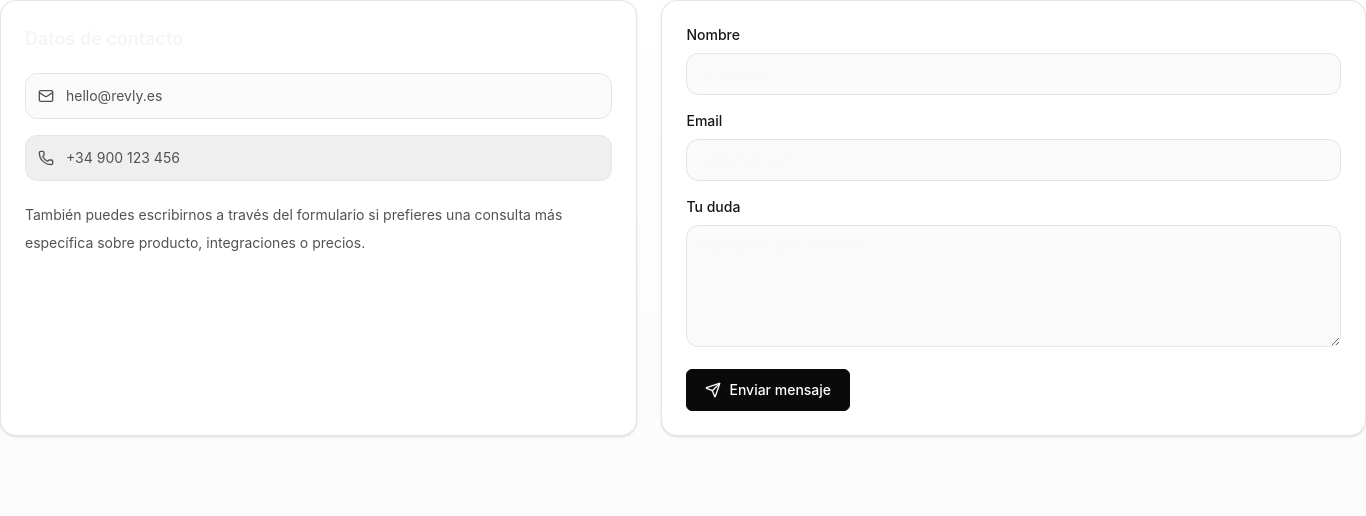
Scenario: ContactForm › envía el formulario y muestra el mensaje de confirmación
In the field labelled "Nombre": (1014, 74) [686, 53, 1341, 95], type "Ana"
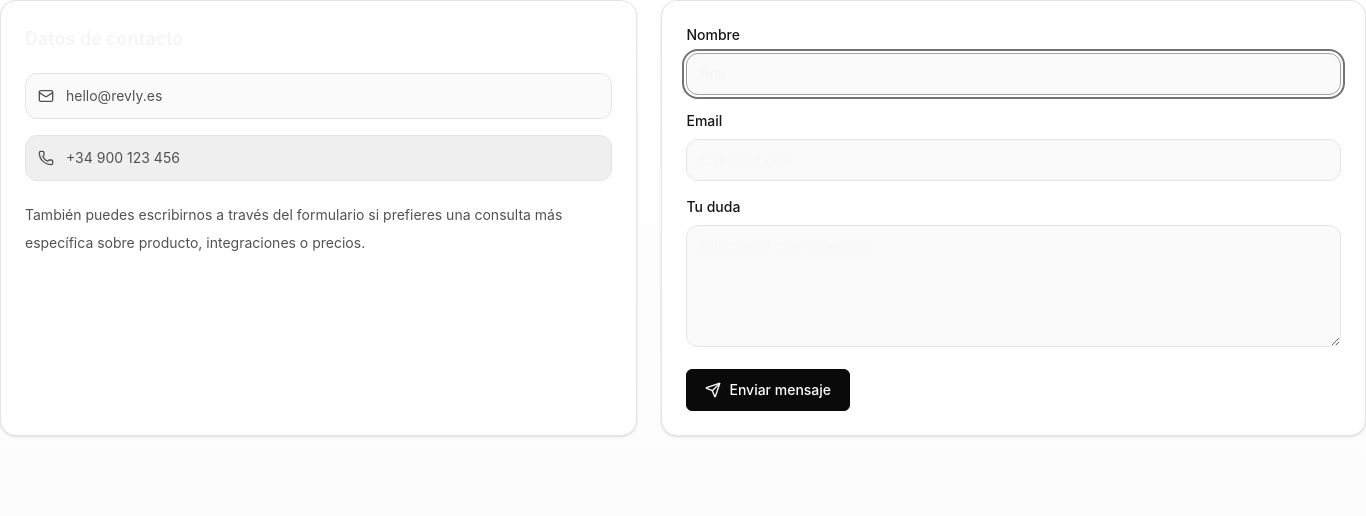
In the field labelled "Email": (1014, 160) [686, 139, 1341, 181], type "ana@example.com"
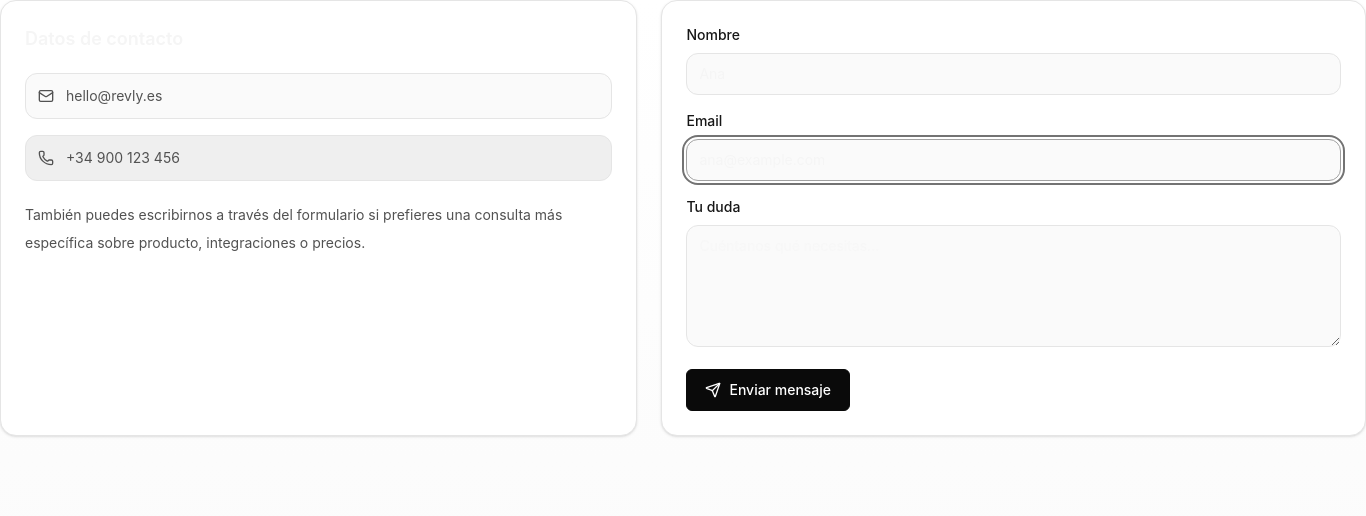
In the text box labelled "Tu duda": (1014, 286) [686, 225, 1341, 347], type "Quiero probar la plataforma"
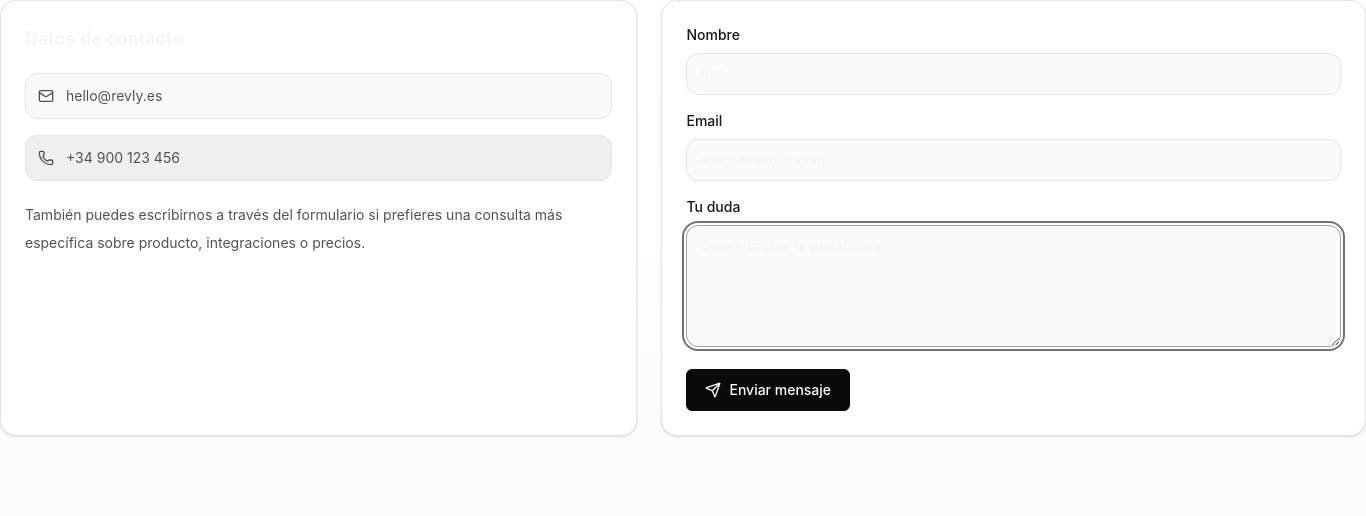
Click the button "Enviar mensaje": (768, 390) [686, 369, 850, 411]
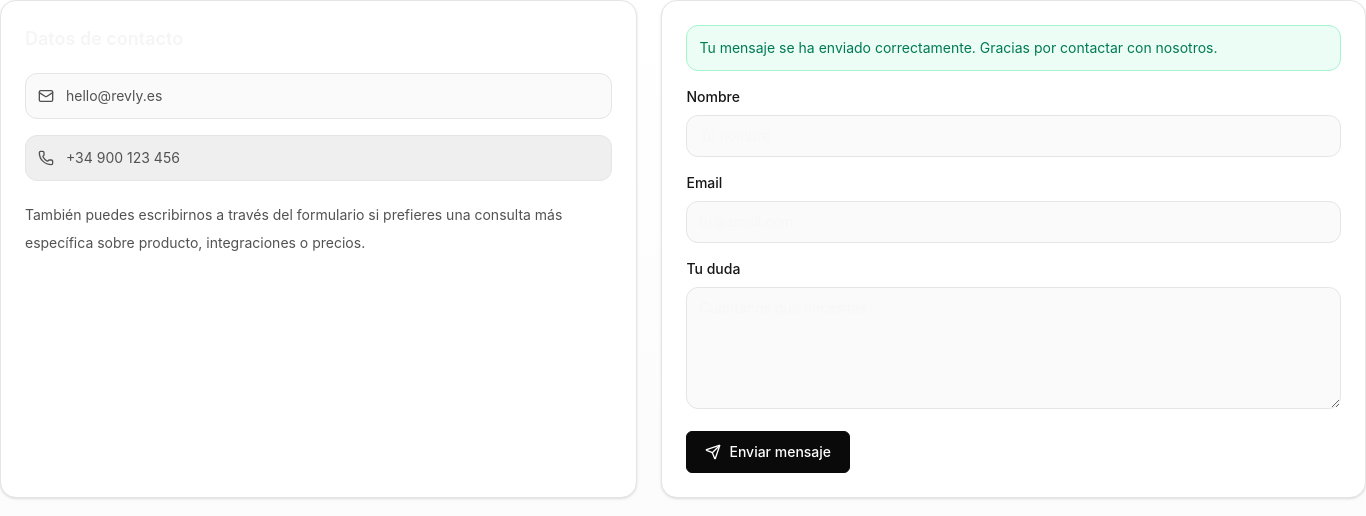
Expected: the text "Tu mensaje se ha enviado correctamente" is shown, [699, 39, 1218, 56]
